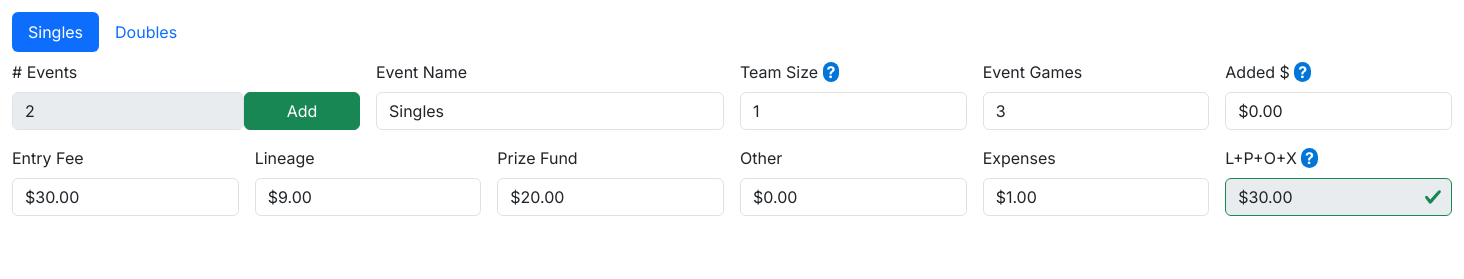
Test: OneToNEvents - Component › render the component › render the 2nd event › render the delete button
The width and height of the screenshot is (1464, 279).
Click the tab "Doubles".
click(146, 32)  # box [99,12,193,52]
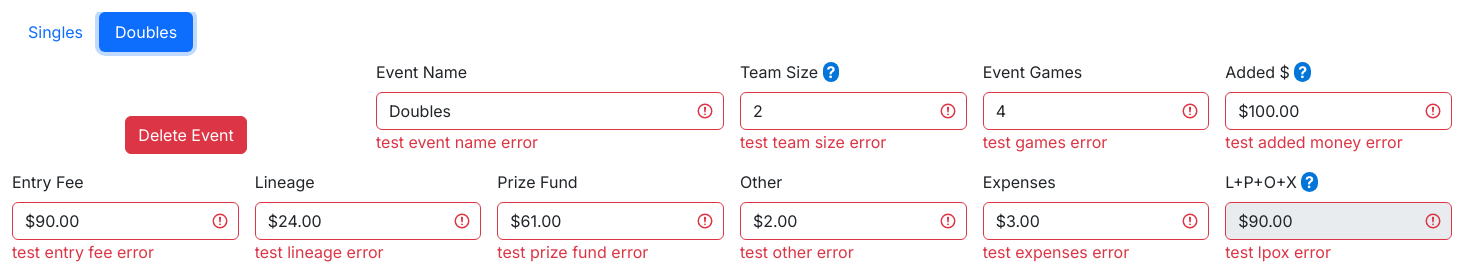
Now the button "Delete Event" is shown, box [125,116,247,154]
